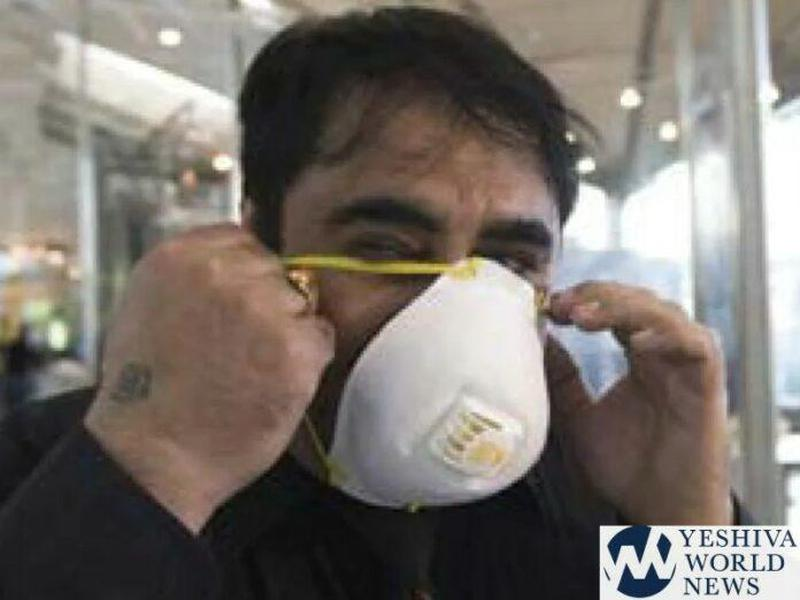with_mask: (236, 2, 560, 513)
